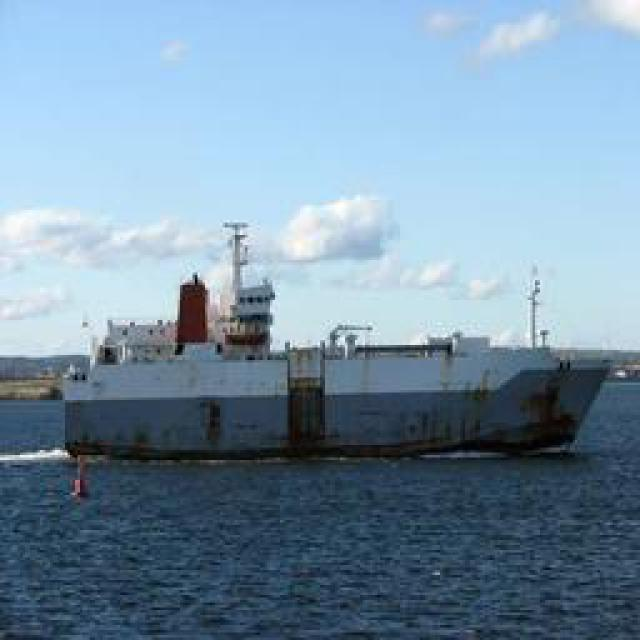Ship: (55, 292, 623, 470)
